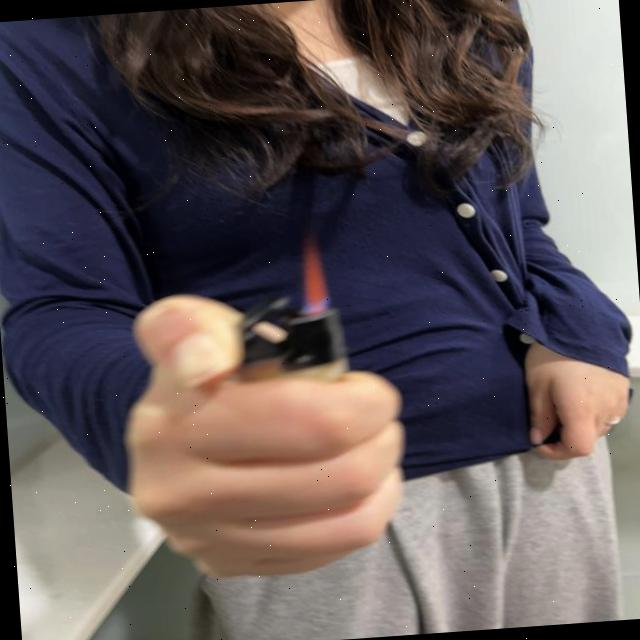fire: (294, 234, 332, 315)
